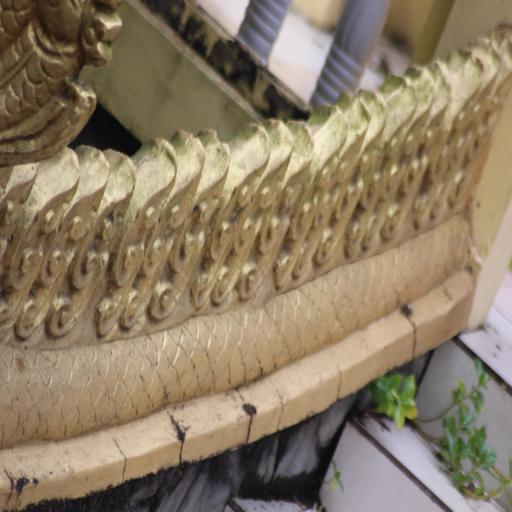lua: (165, 130, 269, 318), (17, 157, 113, 342), (198, 128, 296, 308), (133, 148, 232, 320), (82, 146, 175, 326), (112, 144, 199, 331), (224, 128, 315, 304), (289, 100, 375, 282), (49, 168, 136, 332), (373, 74, 449, 249), (400, 66, 478, 235), (0, 165, 75, 338), (272, 117, 346, 292), (317, 95, 390, 264), (350, 86, 414, 262), (440, 56, 506, 213)
